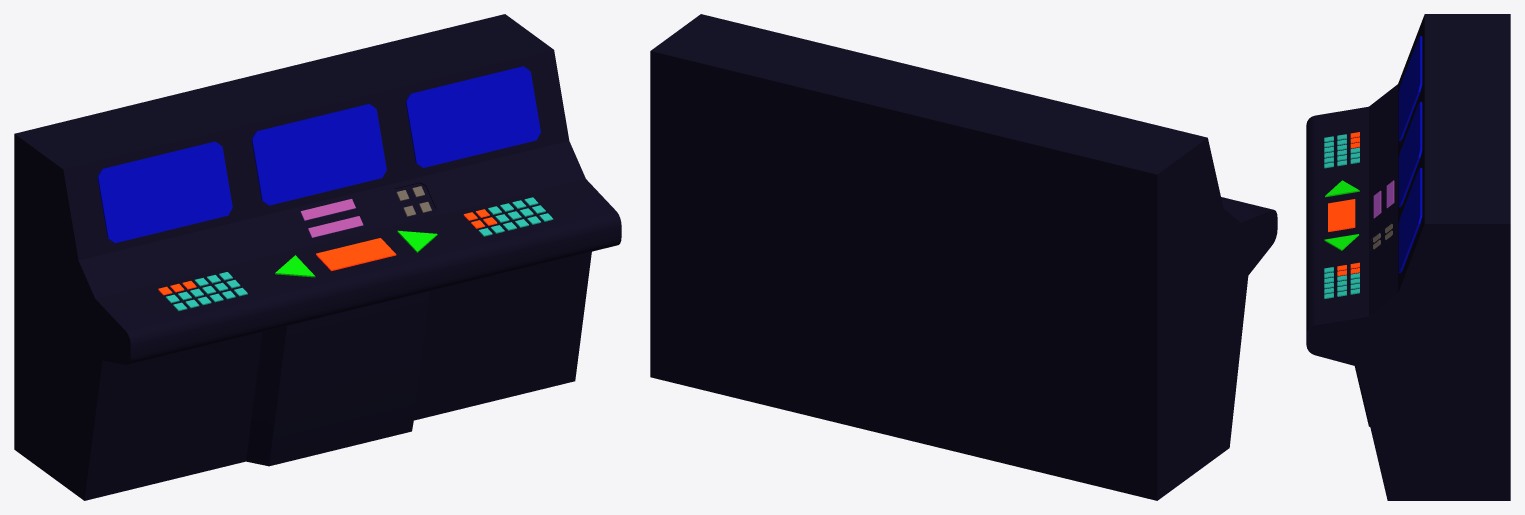
The model's file is Control_h.fbx.
3 views of the same model, side by side, from view 1: azimuth 30°, elevation 25°; view 2: azimuth 150°, elevation 25°; view 3: azimuth 270°, elevation 25° (orthographic). The views are drawn at different scales.
Visible parts, largest first — view 1: Cube.046.frozen; view 2: Cube.046.frozen; view 3: Cube.046.frozen.
Boxes of the visible parts, <box> form: Cube.046.frozen: <box>14,14,621,500</box>; Cube.046.frozen: <box>650,14,1277,500</box>; Cube.046.frozen: <box>1306,14,1510,500</box>.
Size of the model in its own units: 217 by 88.96 by 133.
